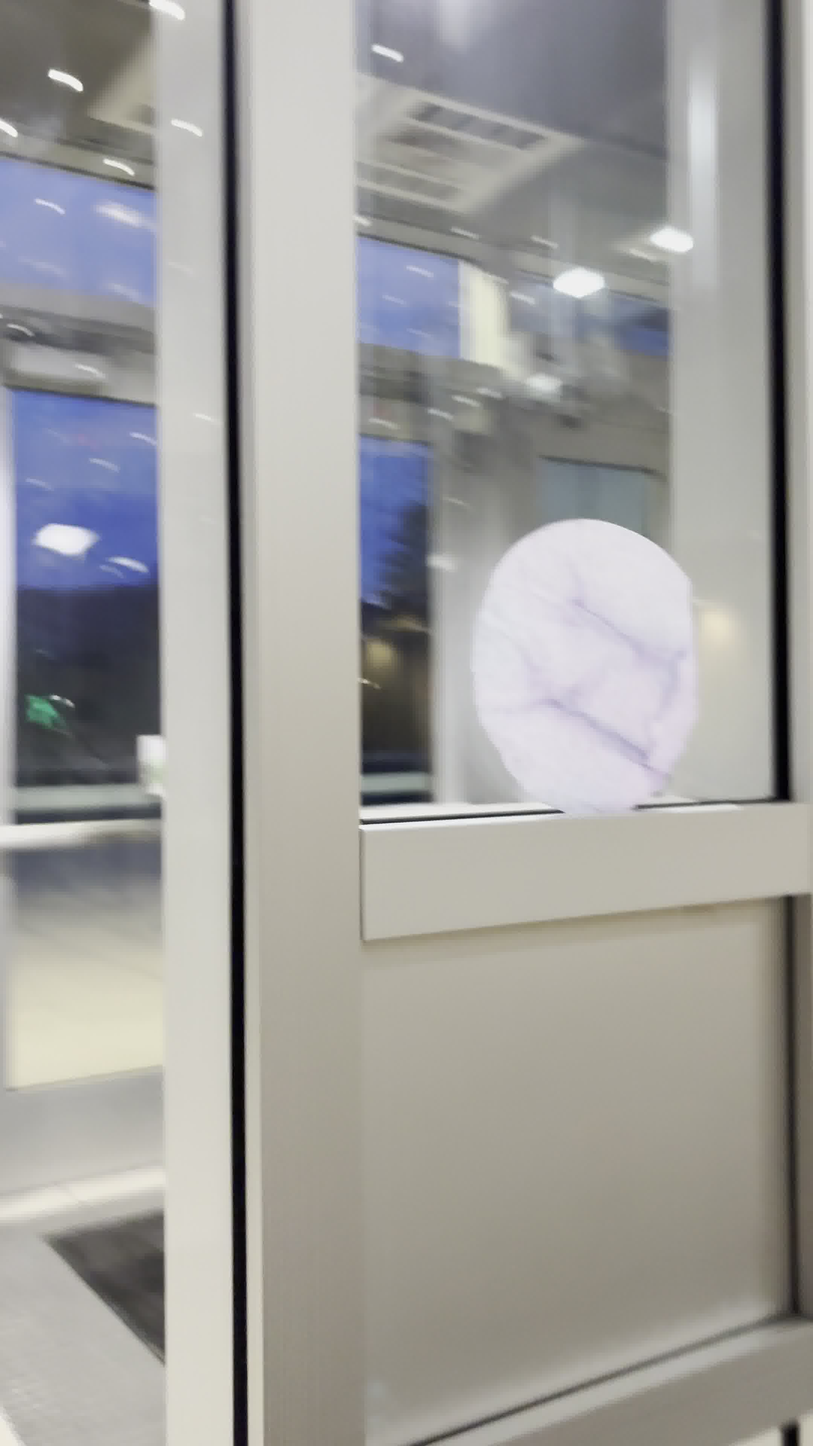Target: (465, 510, 713, 823)
